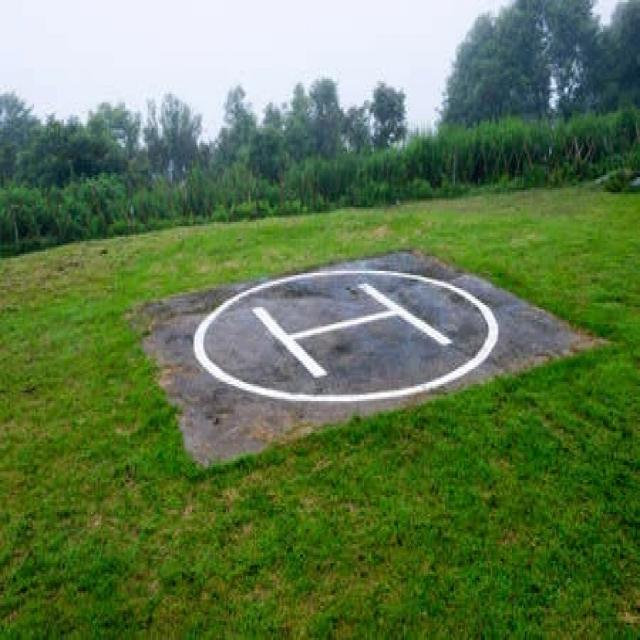helipad: (188, 260, 502, 410)
